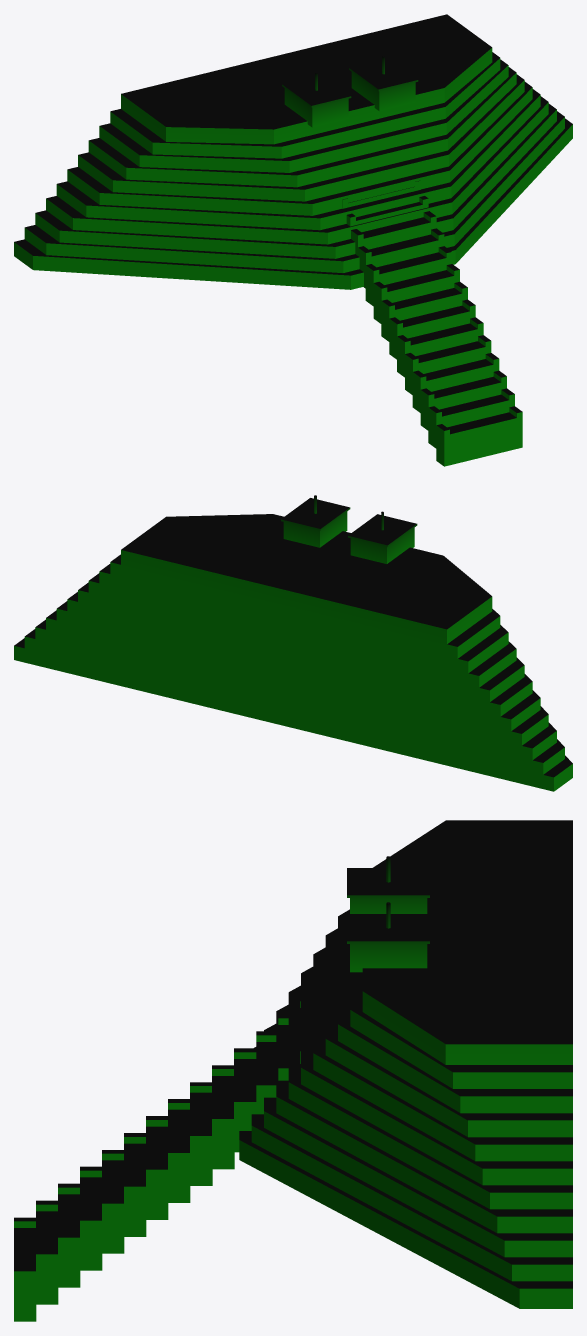
Rendered from s_main_stairs.glb.
3 views of the same model, one above another, from view 1: azimuth 30°, elevation 25°; view 2: azimuth 150°, elevation 25°; view 3: azimuth 270°, elevation 25° (orthographic). The views are drawn at different scales.
Parts seen in each view (by area): view 1: lod0; view 2: lod0; view 3: lod0.
Part boxes in pixels (x1,y1,x2,y2): lod0: (14, 14, 572, 466); lod0: (14, 495, 572, 791); lod0: (14, 820, 572, 1321).
Size of what is drawn, in the model's own units: 47.5 by 24.8 by 30.31.
